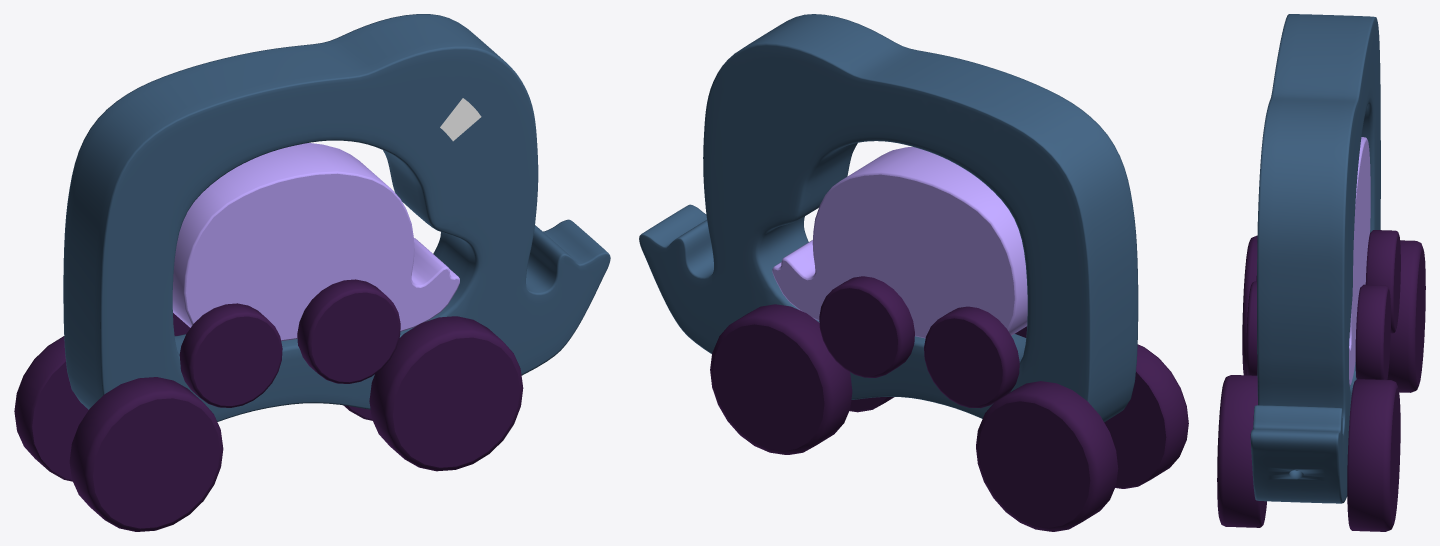
Rendered from ToyObject_010.fbx.
The picture shows the model from 3 angles, left to right: view 1: azimuth 30°, elevation 25°; view 2: azimuth 150°, elevation 25°; view 3: azimuth 270°, elevation 25°; orthographic projection. The views are drawn at different scales.
Visible parts, largest first — view 1: 1.050; view 2: 1.050; view 3: 1.050.
Part boxes in pixels (left/top/right/bottom): 1.050: left=14, top=14, right=610, bottom=531; 1.050: left=639, top=14, right=1188, bottom=531; 1.050: left=1217, top=14, right=1425, bottom=531.
Bounding box in the file's own units: 0.2326 × 0.1713 × 0.0803.
